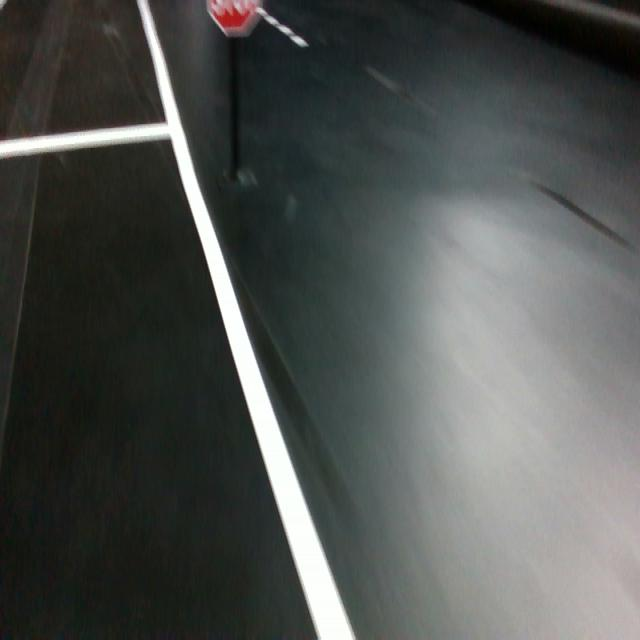stop-sign: (206, 0, 263, 38)
